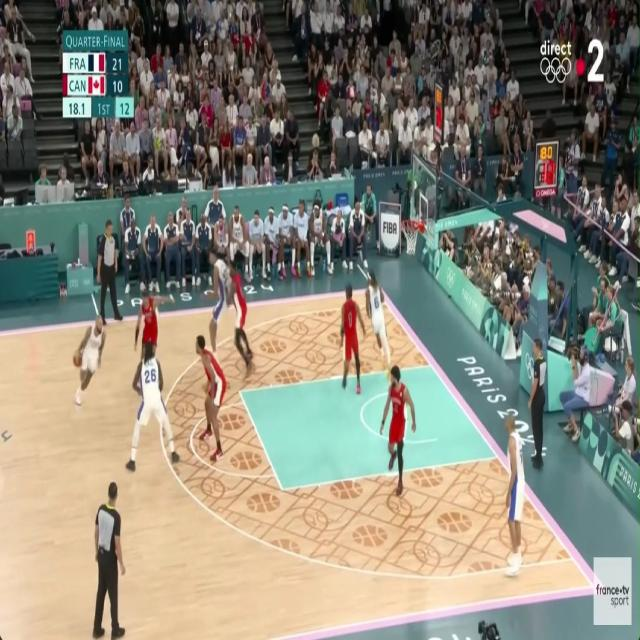ball_handler: (73, 316, 107, 408)
